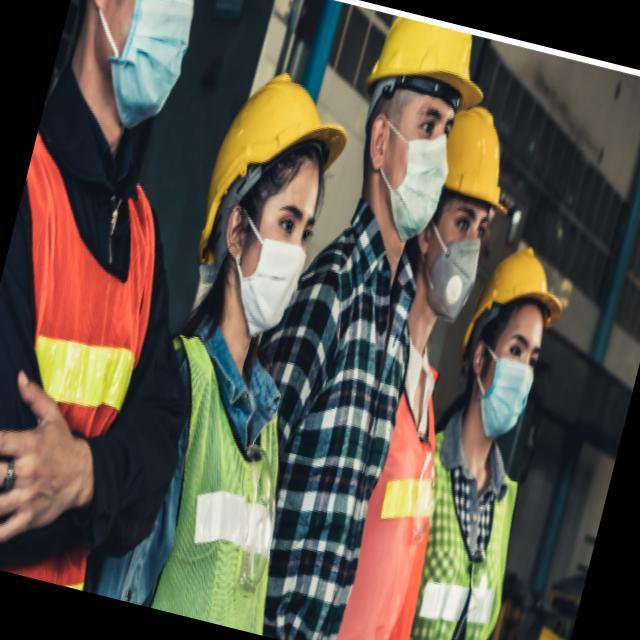hard_hat: (173, 60, 361, 355), (328, 13, 499, 265), (382, 91, 533, 335), (438, 234, 577, 453)
vest: (0, 118, 208, 595), (104, 317, 333, 636), (296, 325, 485, 640), (373, 422, 544, 640)
